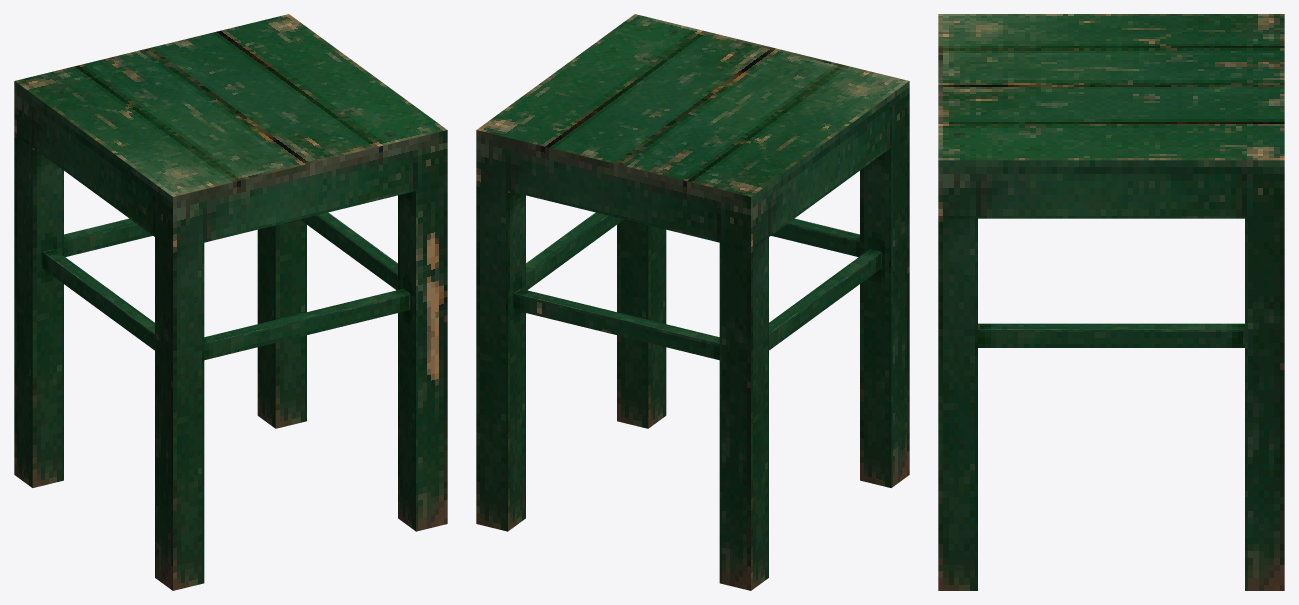
The model's file is stool.gltf.
The picture shows the model from 3 angles, left to right: view 1: azimuth 30°, elevation 25°; view 2: azimuth 150°, elevation 25°; view 3: azimuth 270°, elevation 25°; orthographic projection. The views are drawn at different scales.
Parts seen in each view (by area): view 1: stool; view 2: stool; view 3: stool.
Boxes of the visible parts, box(x1,y1,x2,y2) form: stool: box(14, 14, 447, 590); stool: box(476, 14, 909, 590); stool: box(938, 14, 1284, 590).
Bounding box in the file's own units: 0.35 × 0.48 × 0.35.
1 material, 1 textured.
